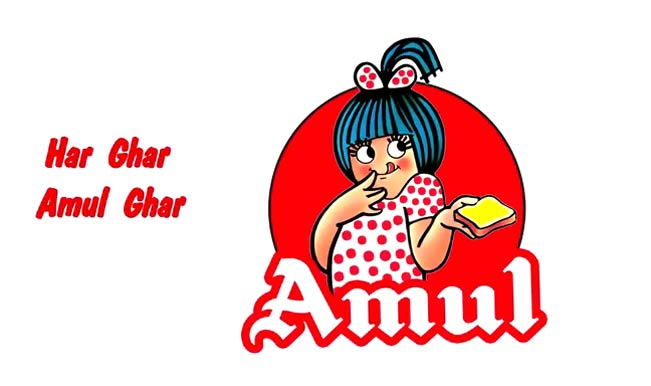Amul: (223, 236, 547, 358)
